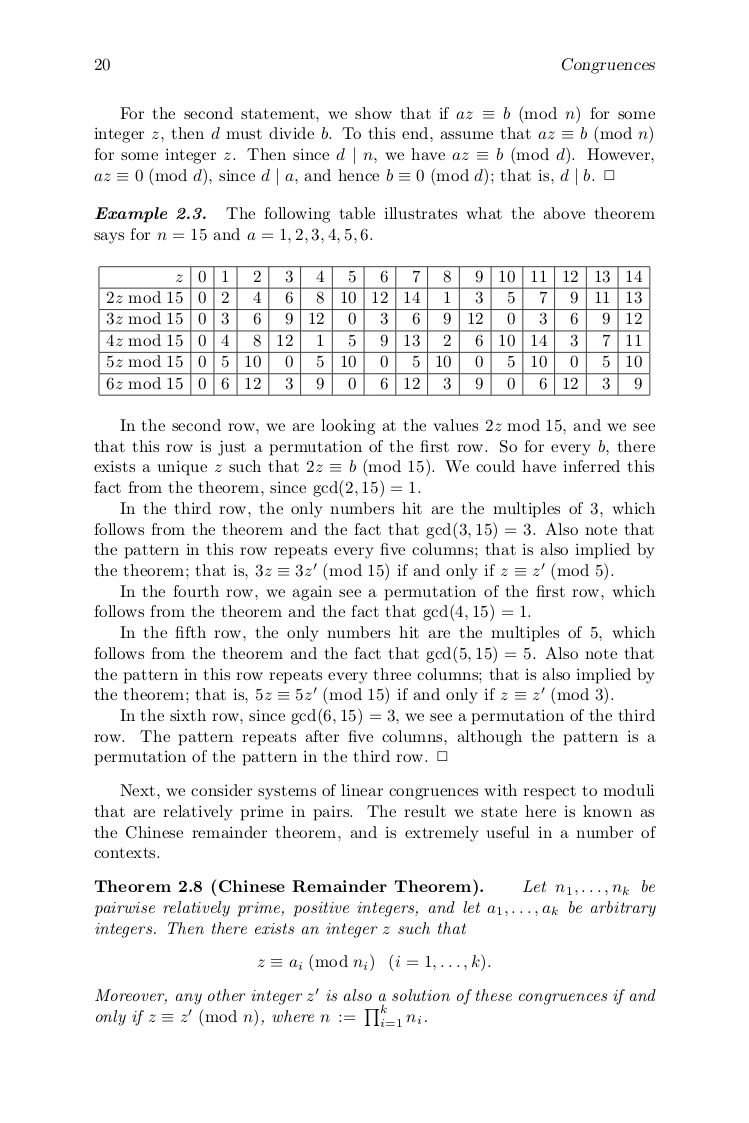Table: (98, 265, 650, 396)
formula: (257, 953, 490, 972)
